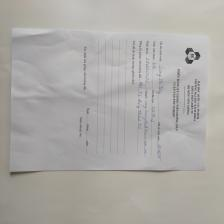Paper: (7, 22, 209, 175)
